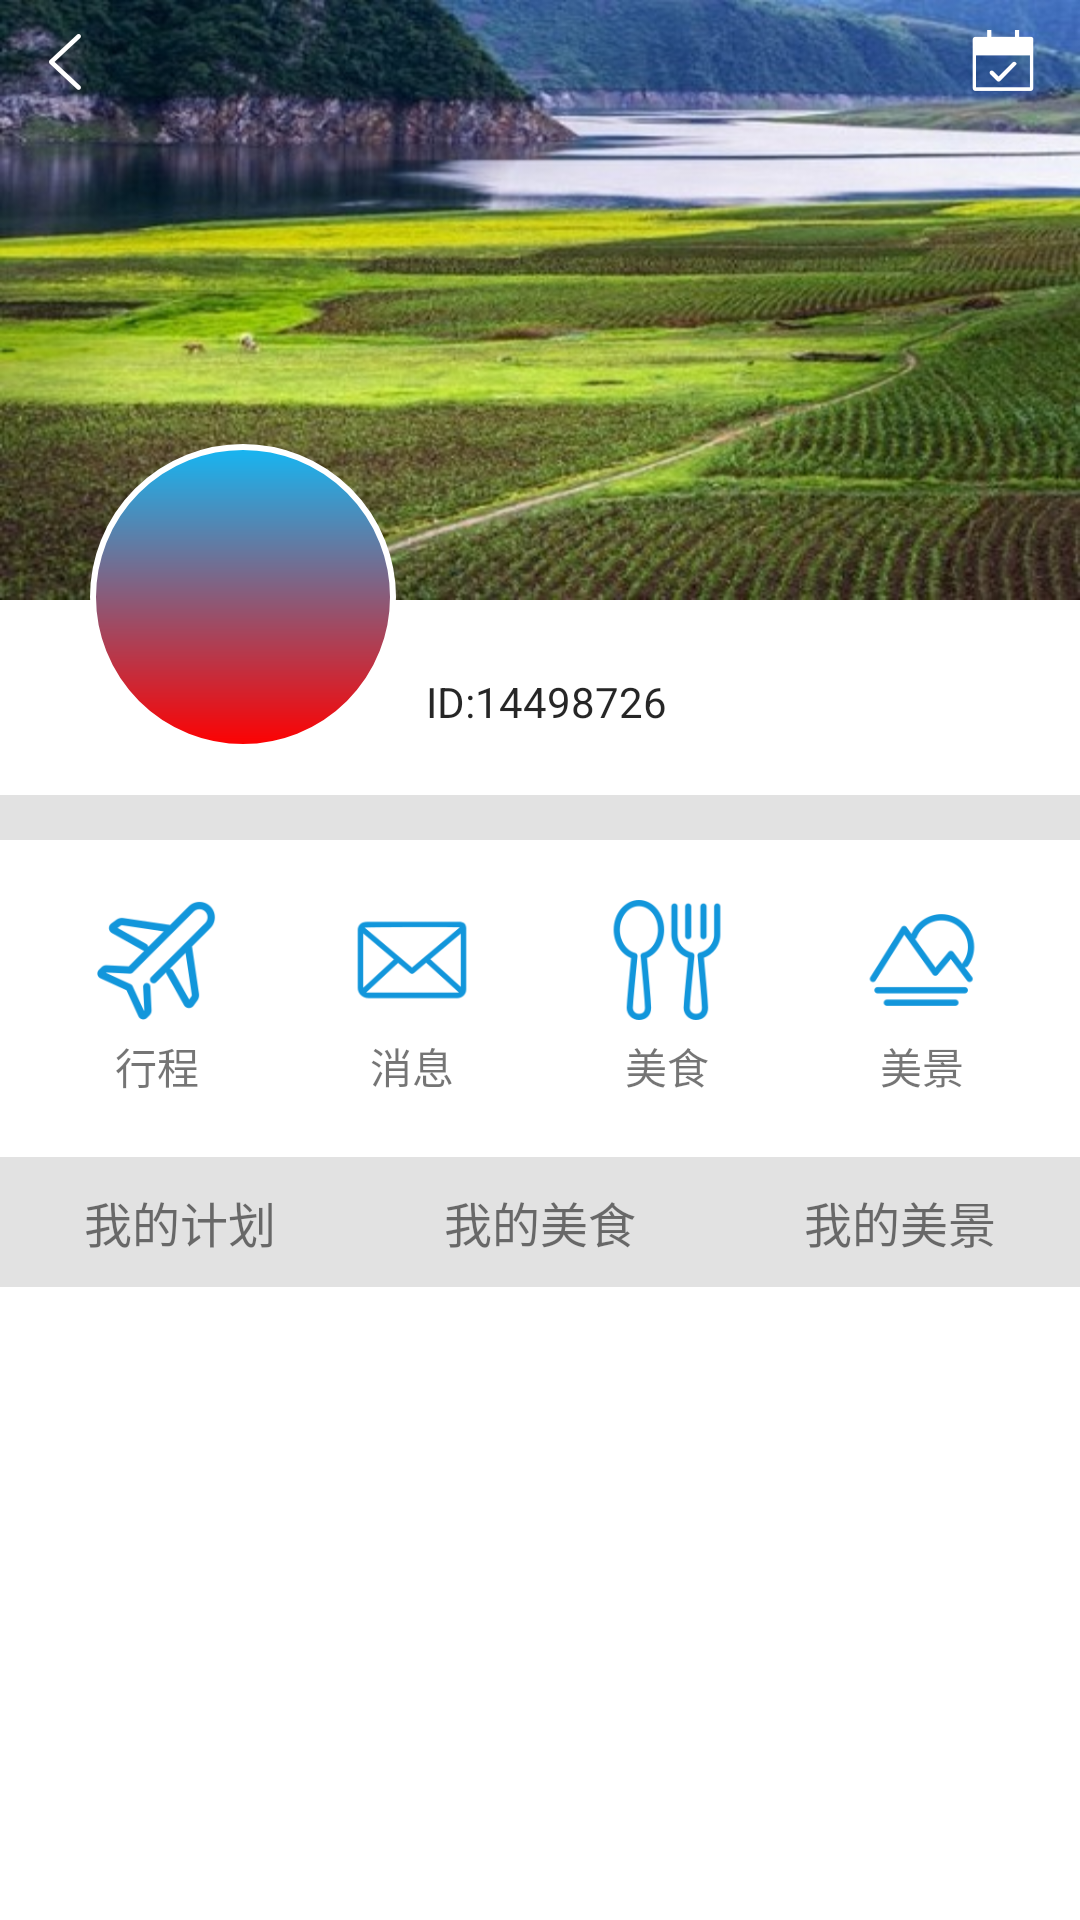

Icons on this 1080 × 1920 Android screen, each with the point to tap as (x,y):
back: (77,62)
punch: (1003,62)
